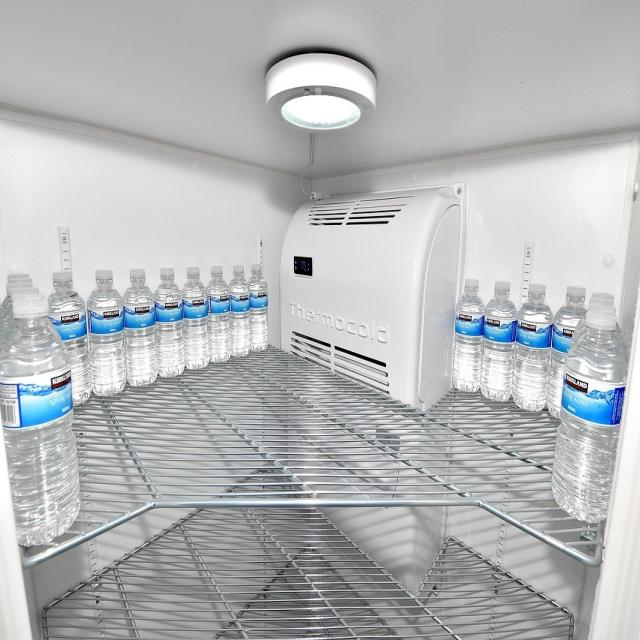plastic_bottle: (551, 291, 628, 524)
